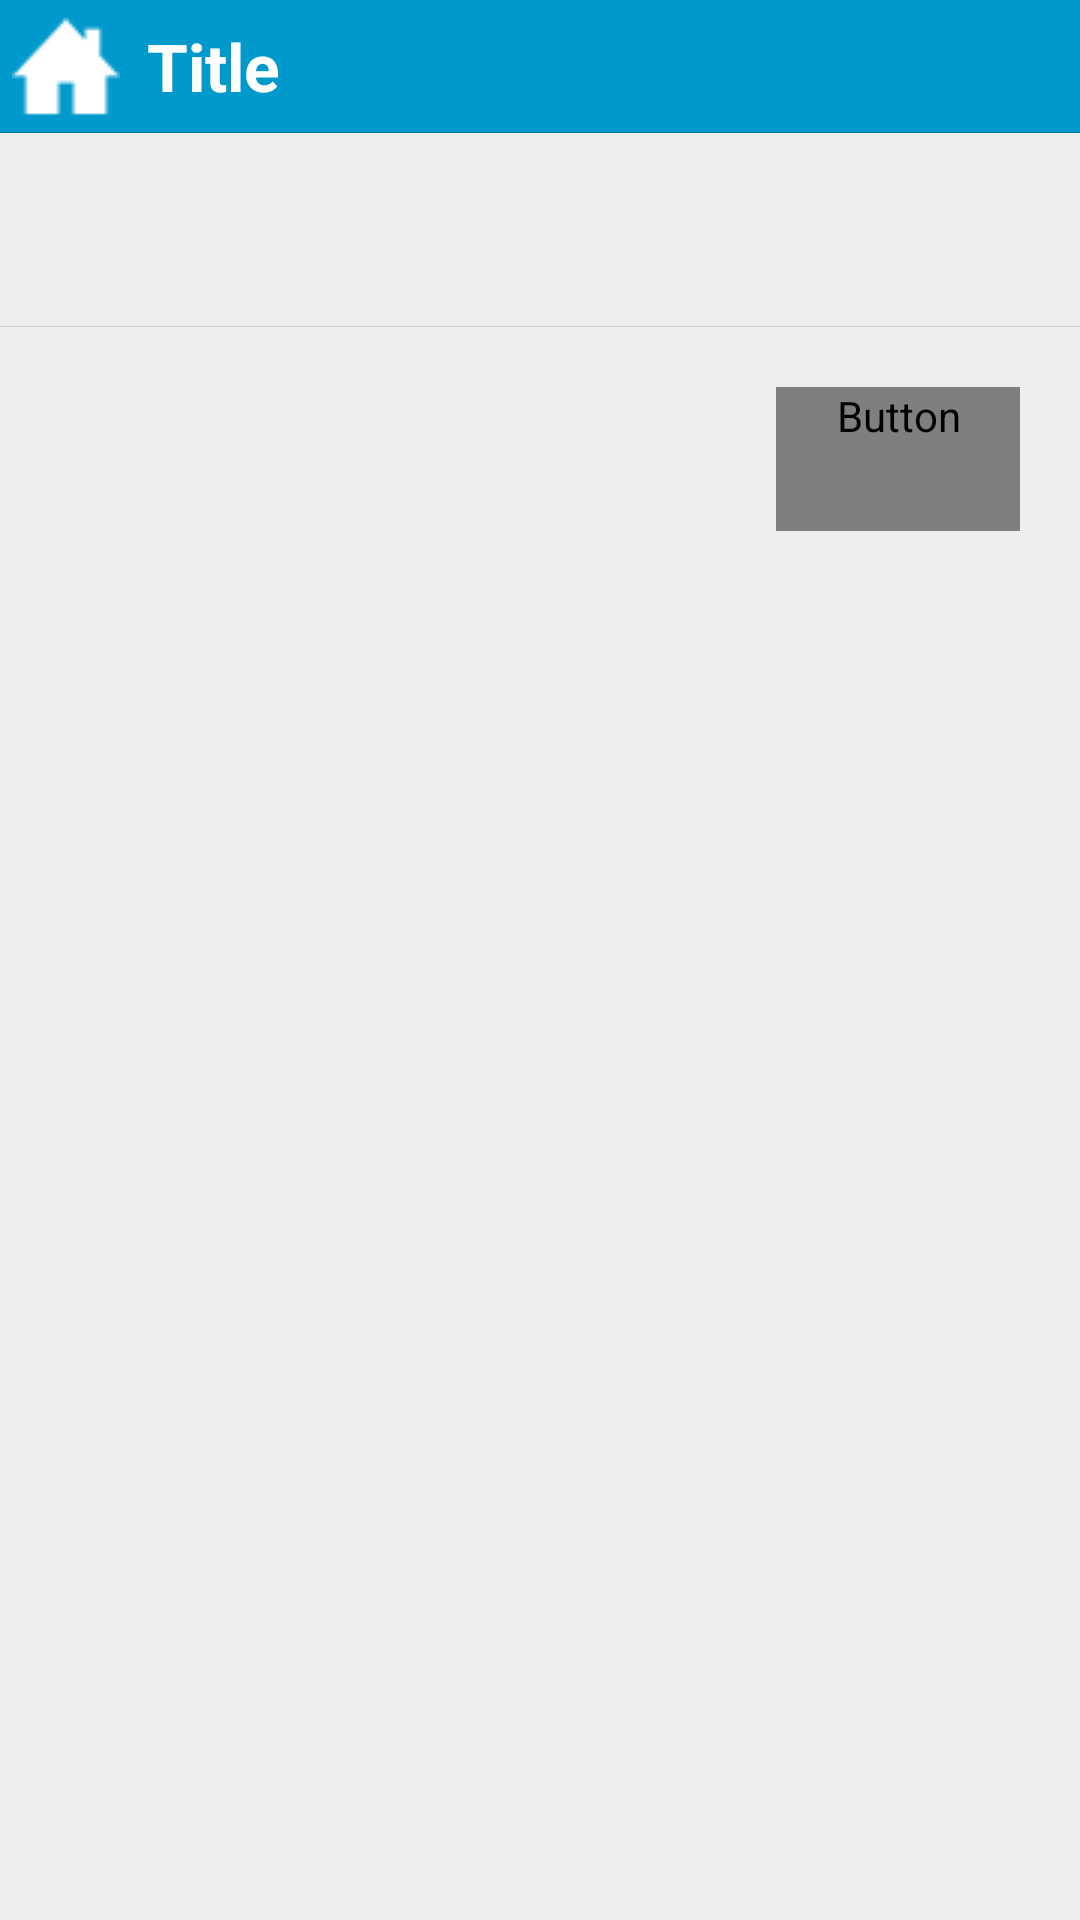

Screen size 1080*1920. Icon name, then its center in pixels as (x,y):
home: (66,66)
